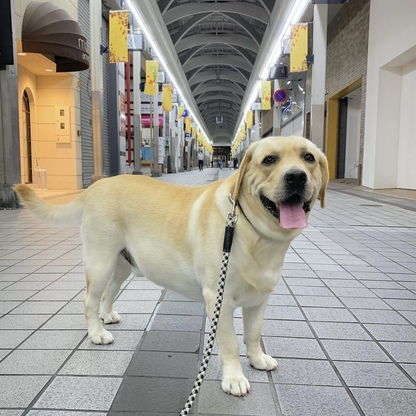labrado: (11, 130, 332, 401)
